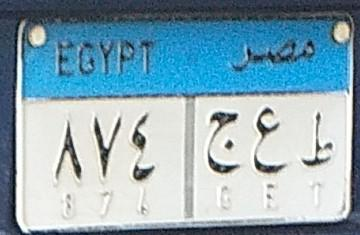4: (124, 103, 164, 182)
7: (87, 98, 123, 185)
8: (52, 107, 87, 180)
ج: (204, 101, 244, 180)
ط: (294, 103, 339, 174)
ع: (243, 105, 292, 179)
